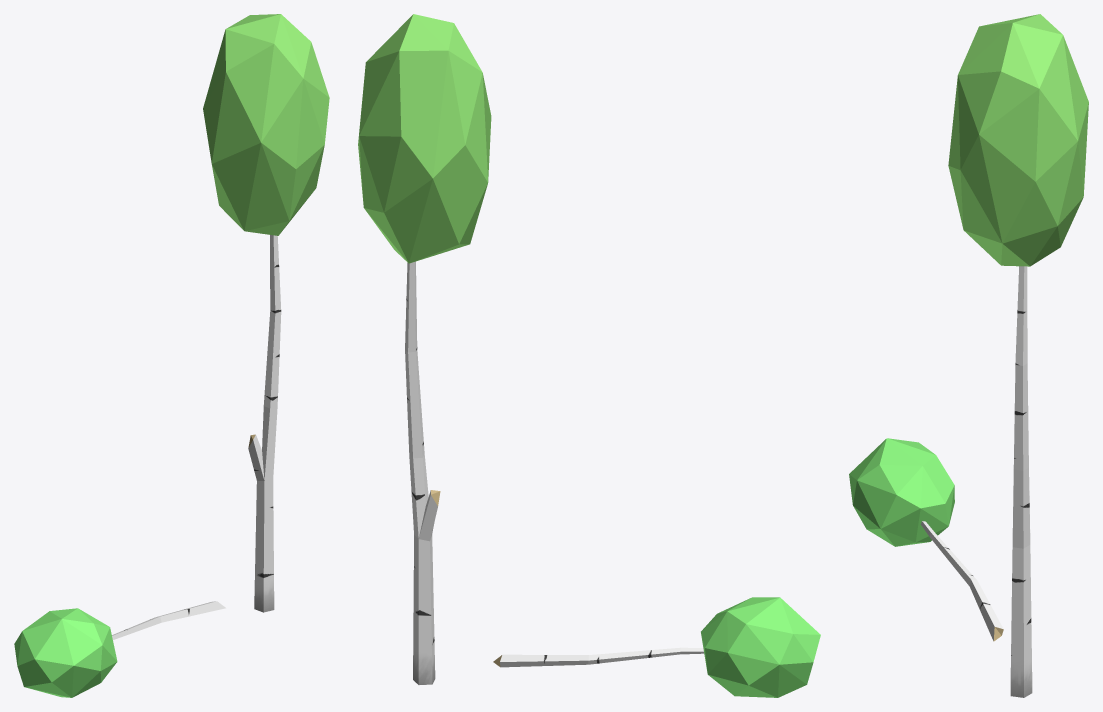
Rendered from Birch_Tree_crk_m_04.fbx.
3 renders of one model, left to right at view 1: azimuth 30°, elevation 25°; view 2: azimuth 150°, elevation 25°; view 3: azimuth 270°, elevation 25°, orthographic. The views are drawn at different scales.
Parts seen in each view (by area): view 1: Birch_Tree_crk_m_04; view 2: Birch_Tree_crk_m_04; view 3: Birch_Tree_crk_m_04.
Part boxes in pixels (left/top/right/bottom): Birch_Tree_crk_m_04: left=14, top=14, right=329, bottom=697; Birch_Tree_crk_m_04: left=358, top=14, right=820, bottom=697; Birch_Tree_crk_m_04: left=849, top=14, right=1088, bottom=697.
Bounding box in the file's own units: 475 × 767 × 246.
